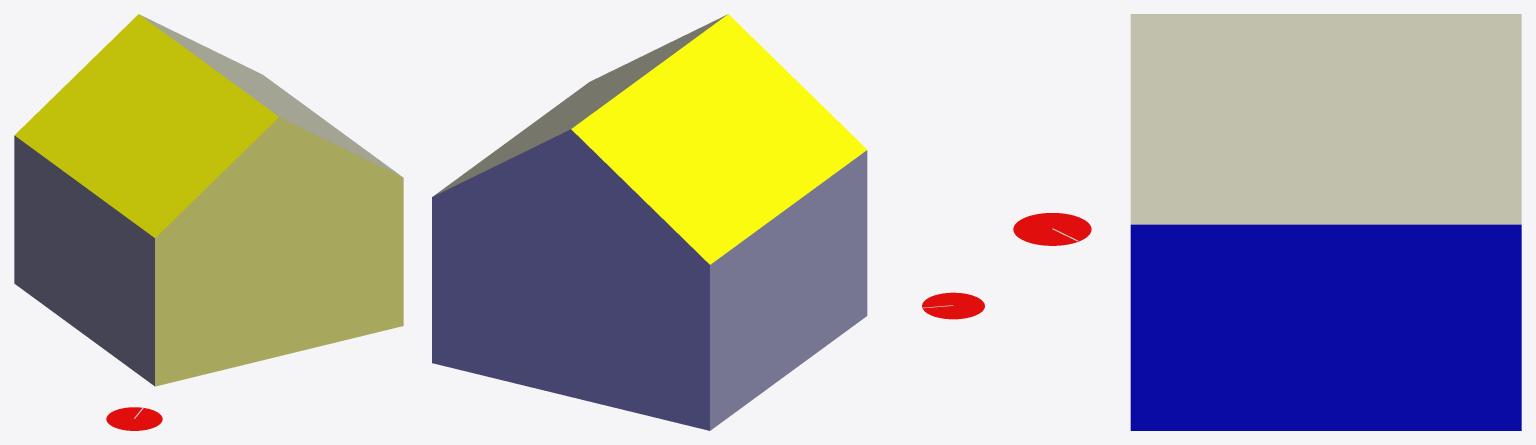
File: result.glb
3 renders of one model, left to right at view 1: azimuth 30°, elevation 25°; view 2: azimuth 150°, elevation 25°; view 3: azimuth 270°, elevation 25°, orthographic. The views are drawn at different scales.
Parts seen in each view (by area): view 1: ee9a3797-e194-49fb-8ea0-f58e04e0e13a__undefined, d5841a81-a039-46ad-bea8-8e42bfb0443d__undefined, 6a70af86-7f67-47ba-9f2a-3dfaa078bbe9__undefined, 92149f2d-9006-4f73-93f8-3360b0fa1cb0__undefined, 4966d73b-7c94-4304-acbd-eab87db07b41__Circle; view 2: 1e4dfb59-0c7a-4956-bb1e-86d276fecc57__undefined, d5841a81-a039-46ad-bea8-8e42bfb0443d__undefined, 6a70af86-7f67-47ba-9f2a-3dfaa078bbe9__undefined, 92149f2d-9006-4f73-93f8-3360b0fa1cb0__undefined, 4966d73b-7c94-4304-acbd-eab87db07b41__Circle; view 3: 92149f2d-9006-4f73-93f8-3360b0fa1cb0__undefined, 3f2eacfa-b163-4b8f-a10d-95f89725c679__undefined, 4966d73b-7c94-4304-acbd-eab87db07b41__Circle.
Boxes of the visible parts, x1,y1,x2,y2 form: ee9a3797-e194-49fb-8ea0-f58e04e0e13a__undefined: [155, 117, 403, 386]; d5841a81-a039-46ad-bea8-8e42bfb0443d__undefined: [14, 14, 278, 237]; 6a70af86-7f67-47ba-9f2a-3dfaa078bbe9__undefined: [14, 135, 154, 386]; 92149f2d-9006-4f73-93f8-3360b0fa1cb0__undefined: [139, 14, 401, 176]; 4966d73b-7c94-4304-acbd-eab87db07b41__Circle: [106, 407, 162, 430]; 1e4dfb59-0c7a-4956-bb1e-86d276fecc57__undefined: [432, 129, 709, 430]; d5841a81-a039-46ad-bea8-8e42bfb0443d__undefined: [571, 14, 867, 264]; 6a70af86-7f67-47ba-9f2a-3dfaa078bbe9__undefined: [710, 150, 867, 430]; 92149f2d-9006-4f73-93f8-3360b0fa1cb0__undefined: [433, 14, 727, 196]; 4966d73b-7c94-4304-acbd-eab87db07b41__Circle: [922, 292, 984, 319]; 92149f2d-9006-4f73-93f8-3360b0fa1cb0__undefined: [1130, 14, 1521, 224]; 3f2eacfa-b163-4b8f-a10d-95f89725c679__undefined: [1130, 224, 1521, 430]; 4966d73b-7c94-4304-acbd-eab87db07b41__Circle: [1013, 213, 1091, 245].
Size of the model in its own units: 660 by 469 by 650.
